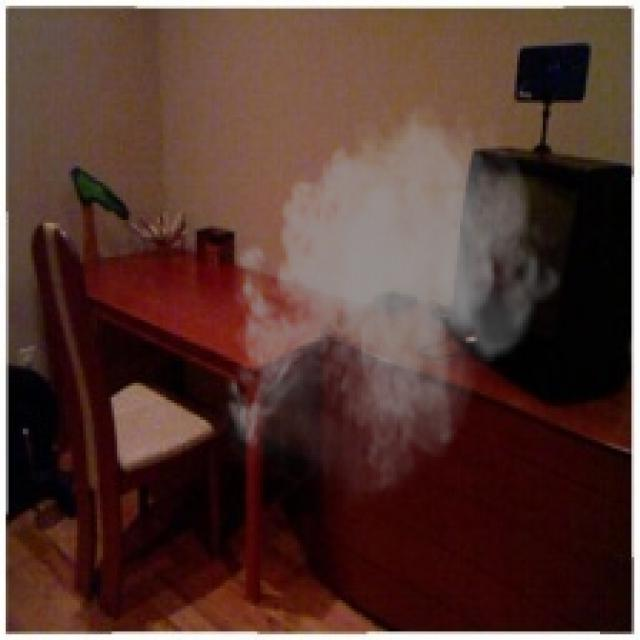Smoke: (217, 91, 563, 518)
